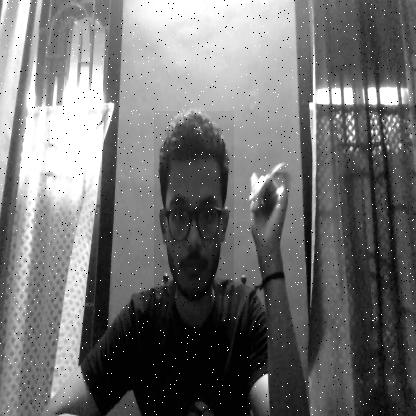Normal: (154, 111, 234, 296)
